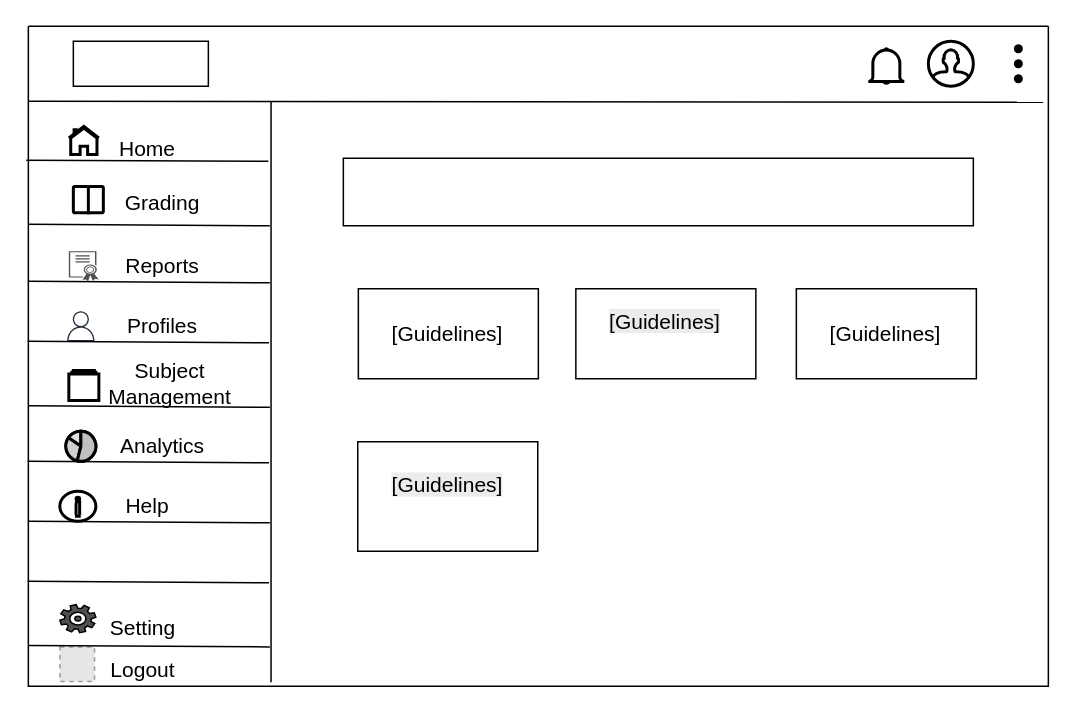
Image size: 1076x719. Some labels were removed from this diagram. Grey dashed boxes stand in for pictures. The centre of each missing label's shape, as x and y in pixels:
[Search Bar]: (657,191)
WCED LOGO: (140,63)
